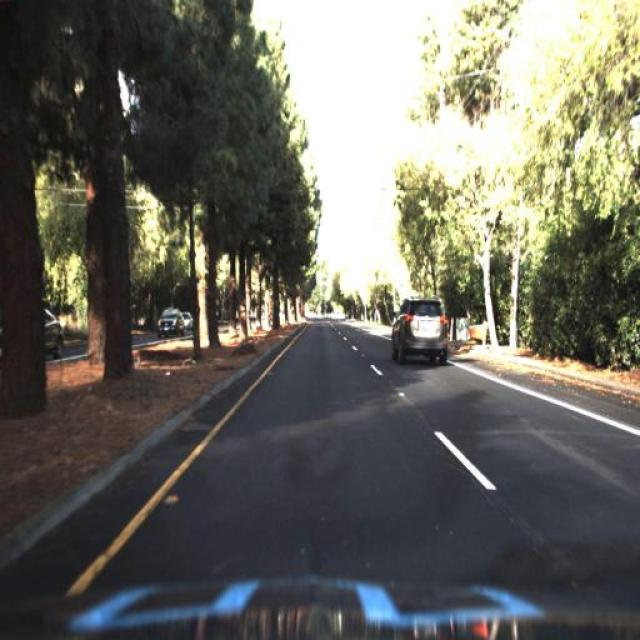car: (390, 294, 446, 364), (24, 304, 66, 364), (156, 300, 187, 344)
